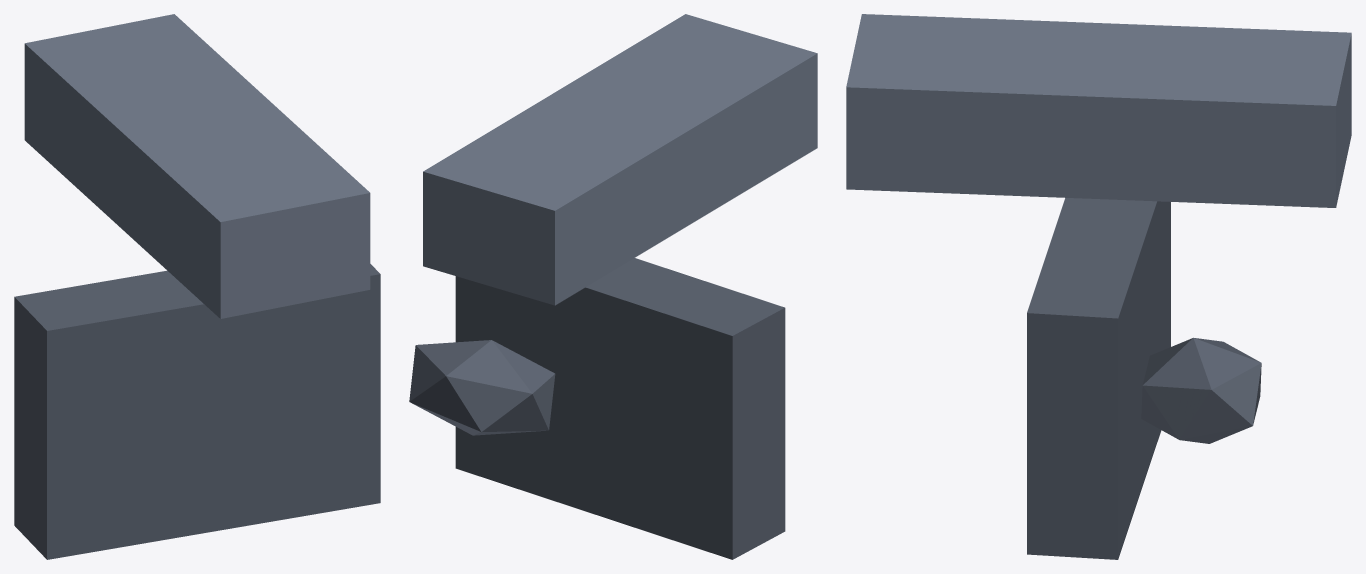
Rendered from EXTW_SouthMarker_00.glb.
3 renders of one model, left to right at view 1: azimuth 30°, elevation 25°; view 2: azimuth 150°, elevation 25°; view 3: azimuth 270°, elevation 25°, orthographic. The views are drawn at different scales.
Parts seen in each view (by area): view 1: EXTW_SouthMarker_00; view 2: EXTW_SouthMarker_00; view 3: EXTW_SouthMarker_00.
Boxes of the visible parts, x1,y1,x2,y2 form: EXTW_SouthMarker_00: [14, 14, 380, 559]; EXTW_SouthMarker_00: [409, 14, 817, 559]; EXTW_SouthMarker_00: [846, 14, 1351, 559].
Bounding box in the file's own units: 0.7579 × 0.9 × 0.9867.
